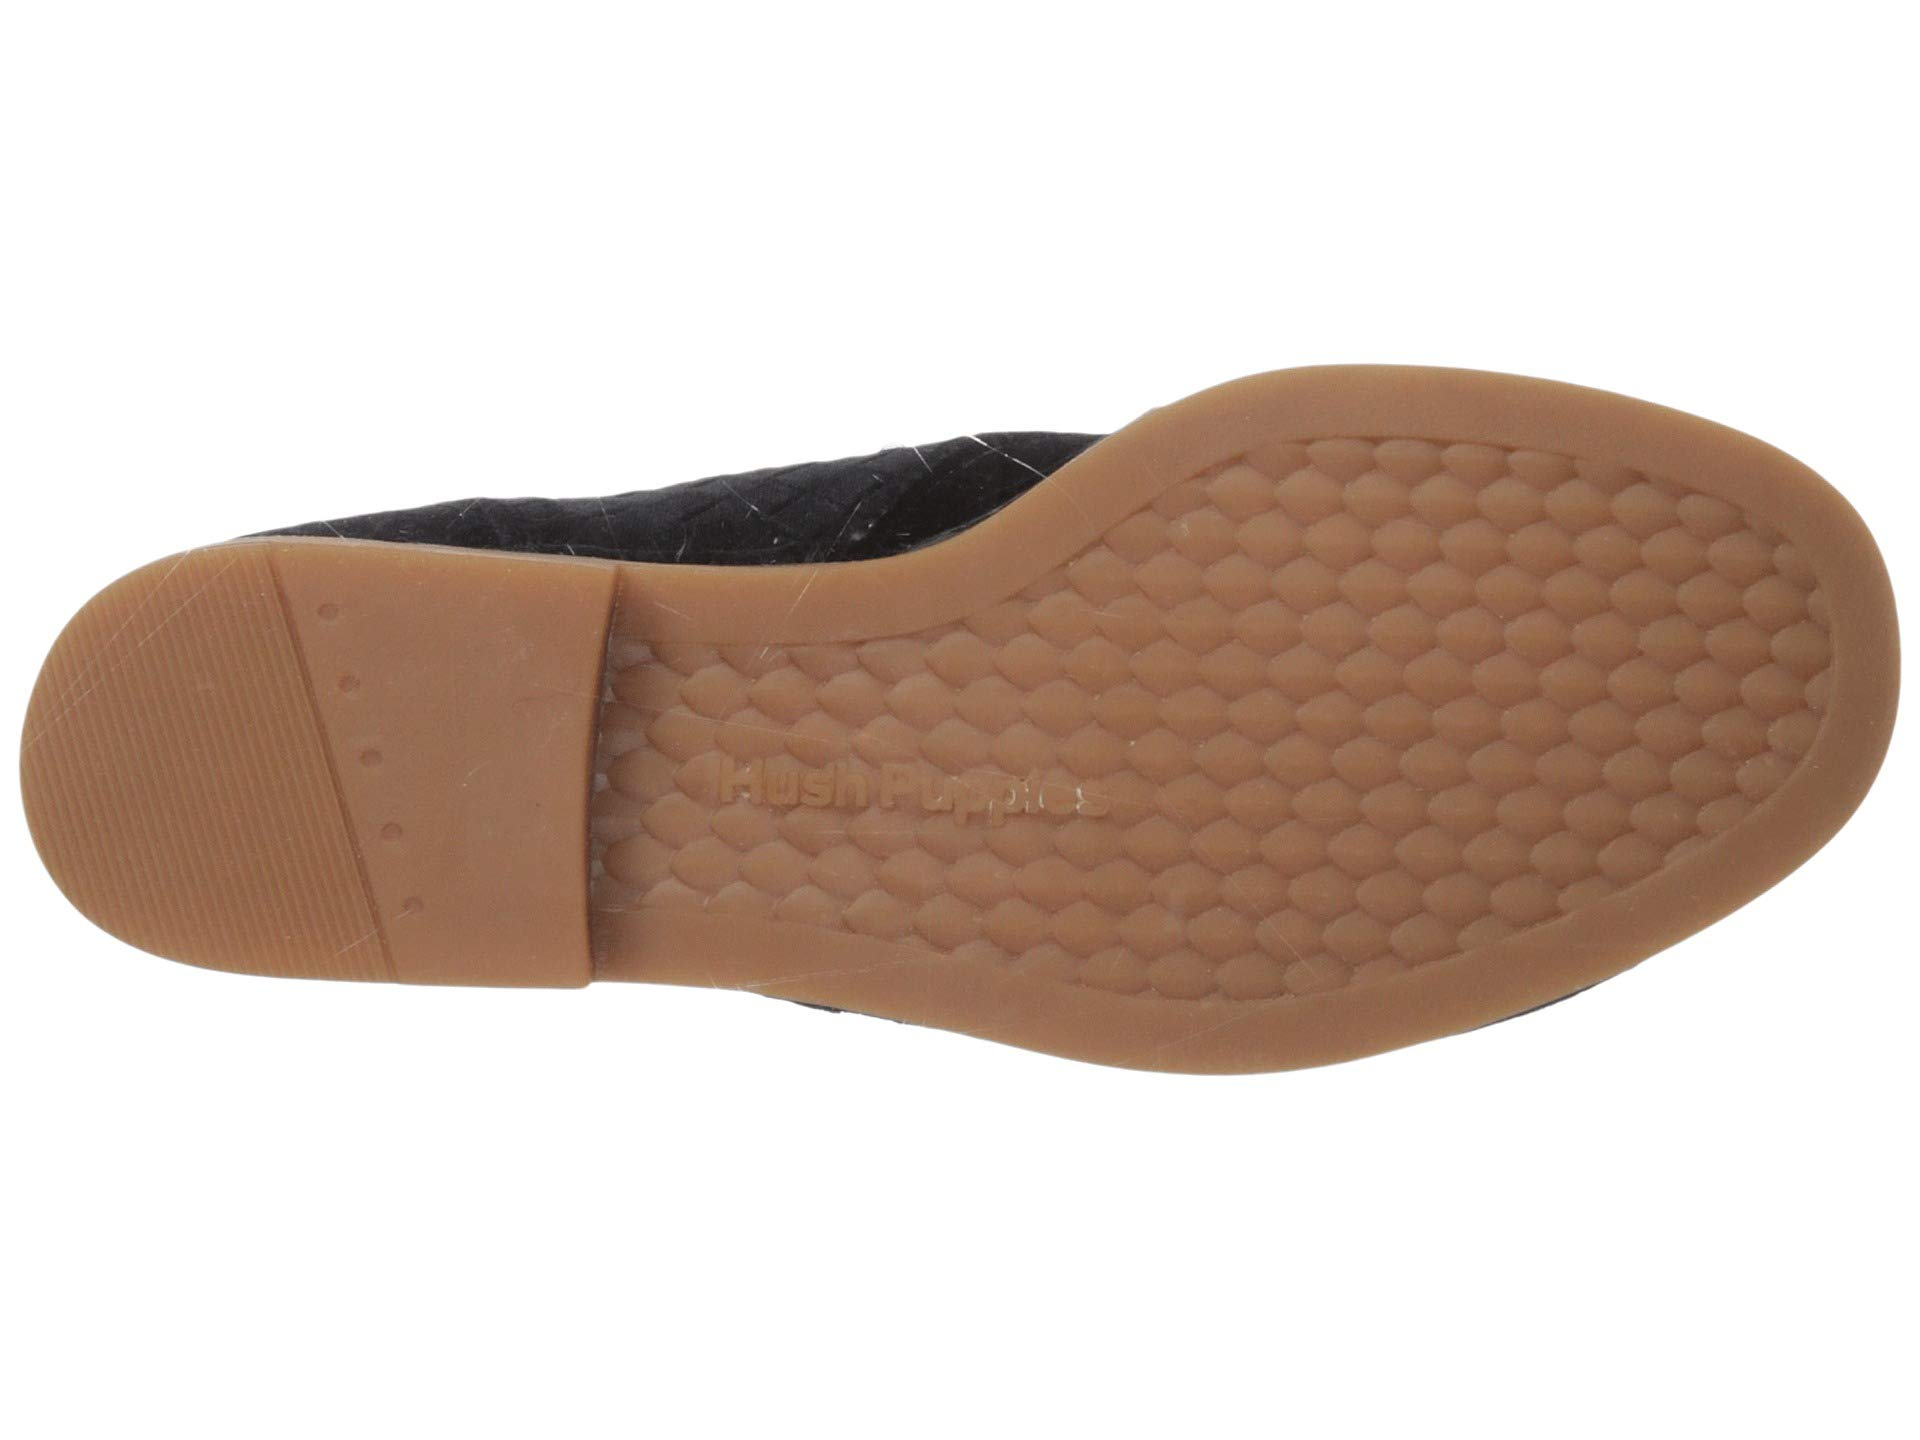text: (677, 629, 1202, 918)
